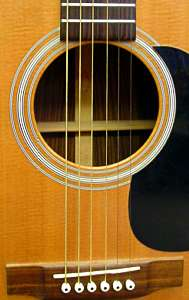guitar: (1, 1, 189, 300)
